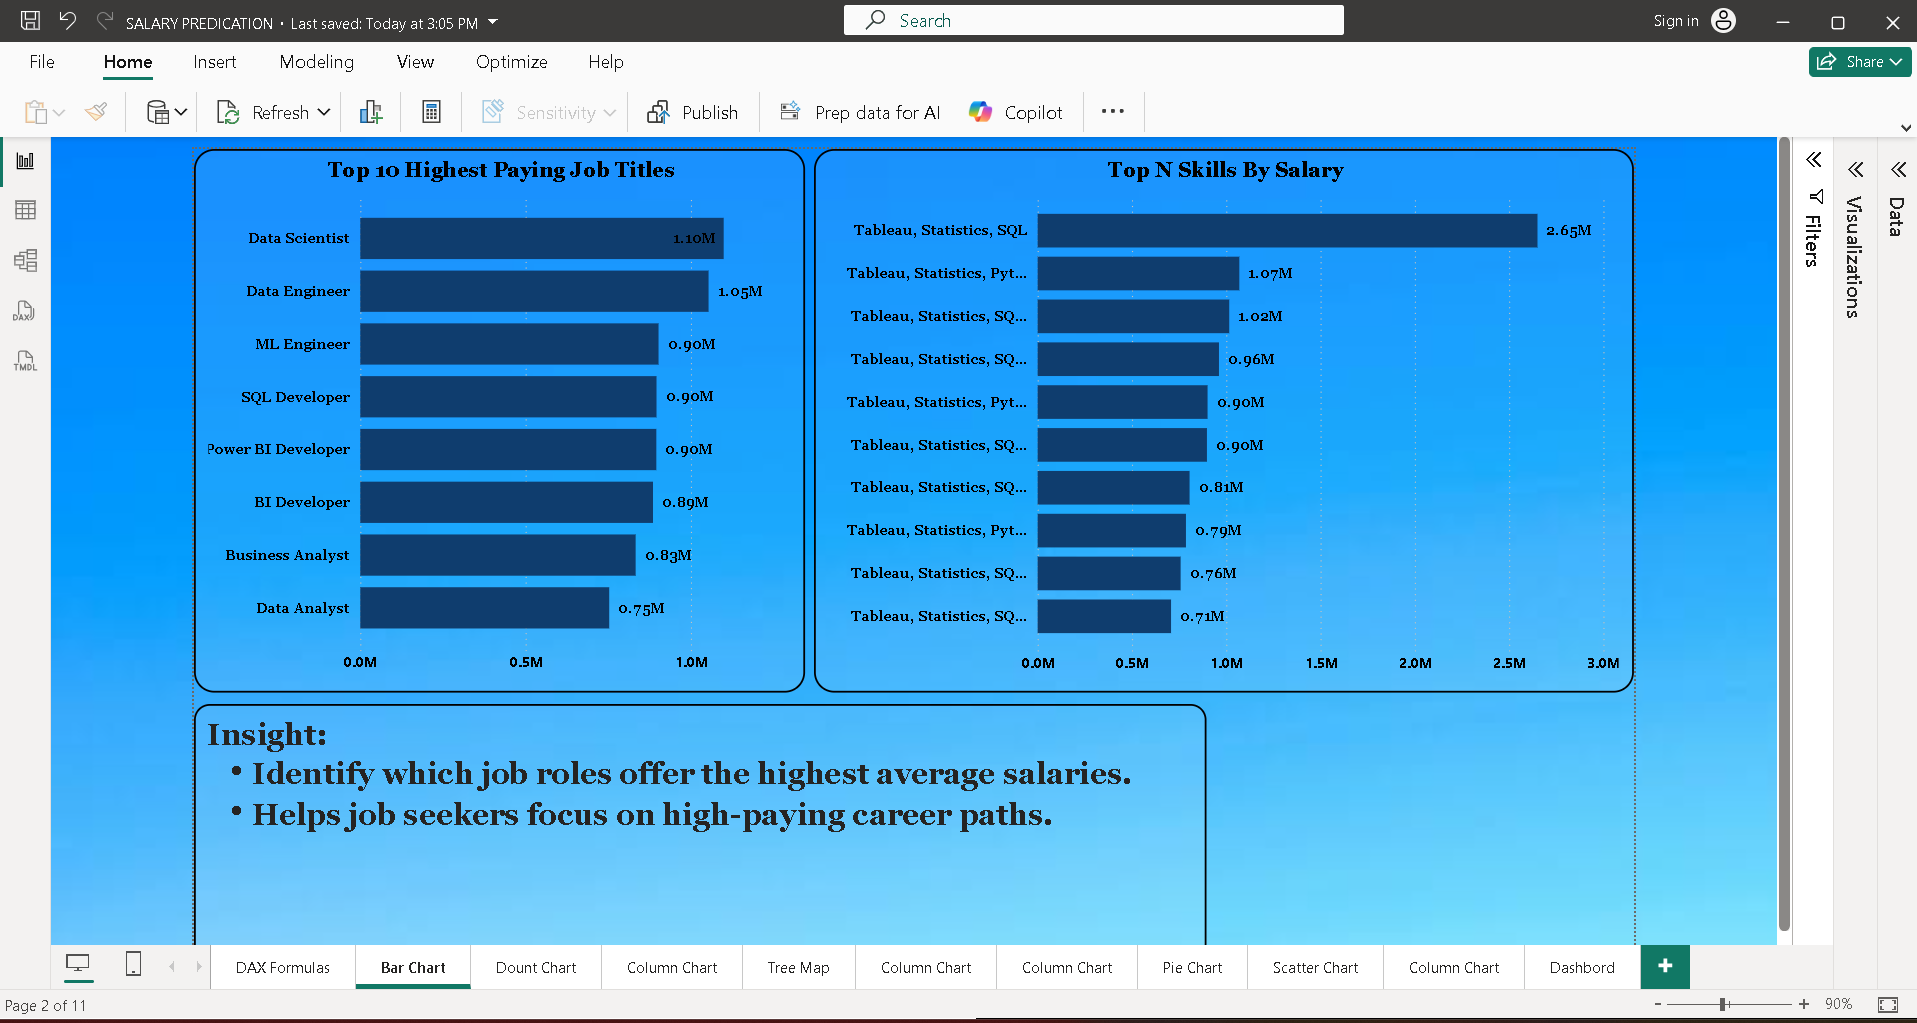

What the dashboard file says about the page in this screenshot:
{"tool":"powerbi","page":{"name":"Bar Chart","canvas":[1280,720],"ordinal":1},"visuals":[{"type":"clusteredBarChart","title":"Top 10 Highest Paying Job Titles","fields":{"Category":["clean_job_market_salary_fixed.Job_Title"],"Y":["Avg(clean_job_market_salary_fixed.Salary)"]},"box":[0,0,542.9,483],"z":0},{"type":"textbox","box":[0,492.8,900,227.4],"z":1000},{"type":"barChart","title":"Top N Skills By Salary ","fields":{"Category":["clean_job_market_salary_fixed.Skills"],"Y":["Sum(clean_job_market_salary_fixed.Salary)"]},"box":[551.1,0,728.9,483.3],"z":2000}]}

Visuals, with their boxes on the page's 1280x720 design canvas (x1, y1, x2, y2). These are canvas units, not pixel positions in the 1917x1023 screenshot, which may show the page scaled, cropped or inside an application window:
"Top 10 Highest Paying Job Titles" clusteredBarChart: [left=0, top=0, right=543, bottom=483]
textbox: [left=0, top=493, right=900, bottom=720]
"Top N Skills By Salary " barChart: [left=551, top=0, right=1280, bottom=483]
